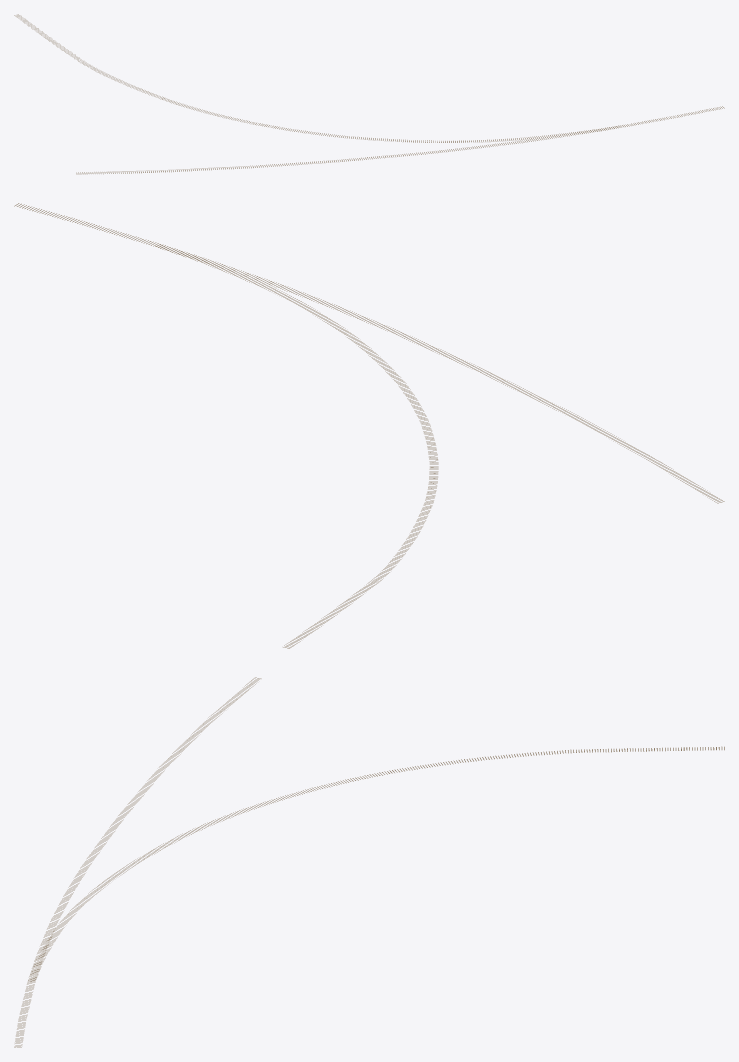
Rendered from c_1626_17828_rail_sleeper.glb.
3 renders of one model, top to bottom at view 1: azimuth 30°, elevation 25°; view 2: azimuth 150°, elevation 25°; view 3: azimuth 270°, elevation 25°, orthographic. The views are drawn at different scales.
Visible parts, largest first — view 1: geometry_0; view 2: geometry_0; view 3: geometry_0.
Part boxes in pixels (left/top/right/bottom): geometry_0: left=14, top=14, right=724, bottom=174; geometry_0: left=14, top=203, right=724, bottom=648; geometry_0: left=14, top=677, right=724, bottom=1047.
Bounding box in the file's own units: 256 × 3.17 × 211.
